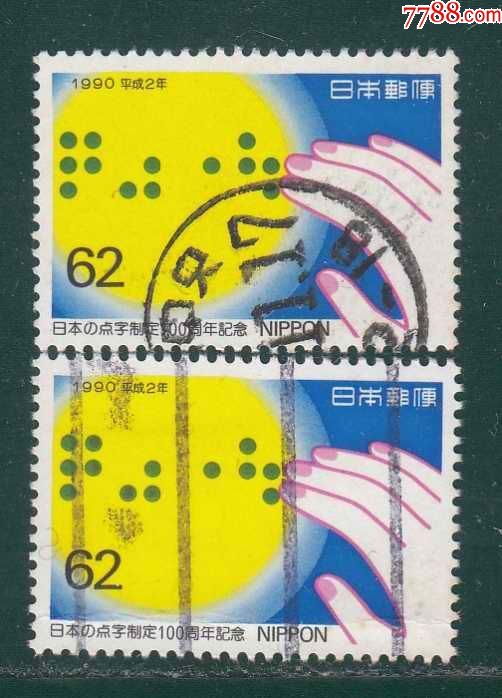Braille: (177, 131, 224, 202), (236, 130, 281, 204), (57, 130, 103, 200), (118, 130, 163, 200), (120, 434, 163, 505), (237, 439, 280, 510), (60, 433, 102, 502), (182, 436, 221, 506)
